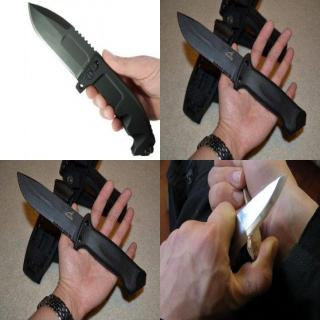knife: (25, 0, 114, 104), (216, 170, 290, 271), (174, 7, 252, 92), (14, 167, 92, 251)
